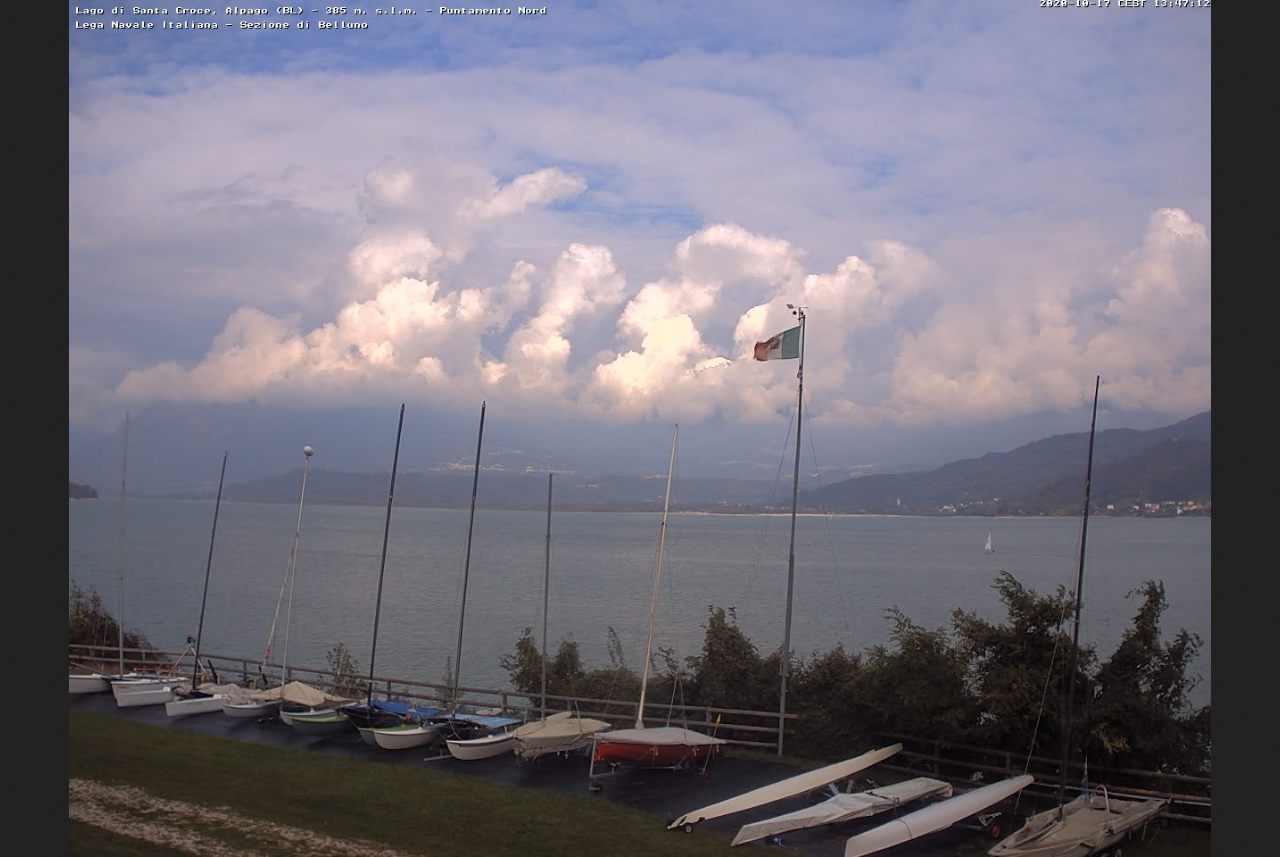yes: (750, 327, 804, 366)
